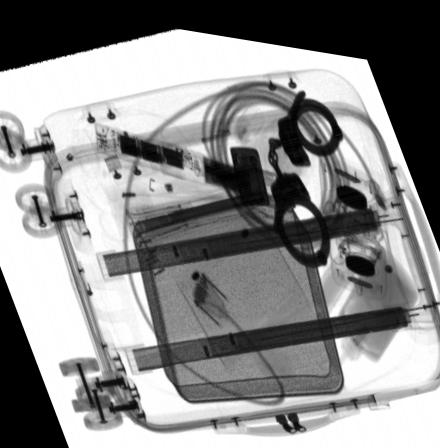Baton: (87, 118, 296, 203)
HandCuffs: (267, 78, 343, 258)
Lighter: (229, 140, 270, 198)
